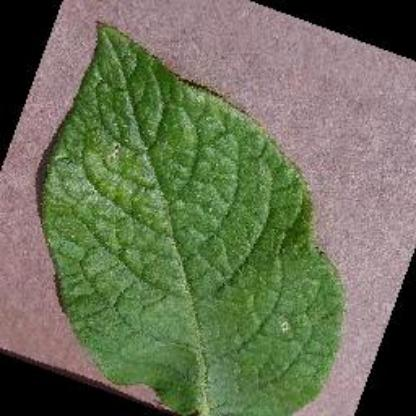Healthy-plant: (35, 19, 349, 416)
